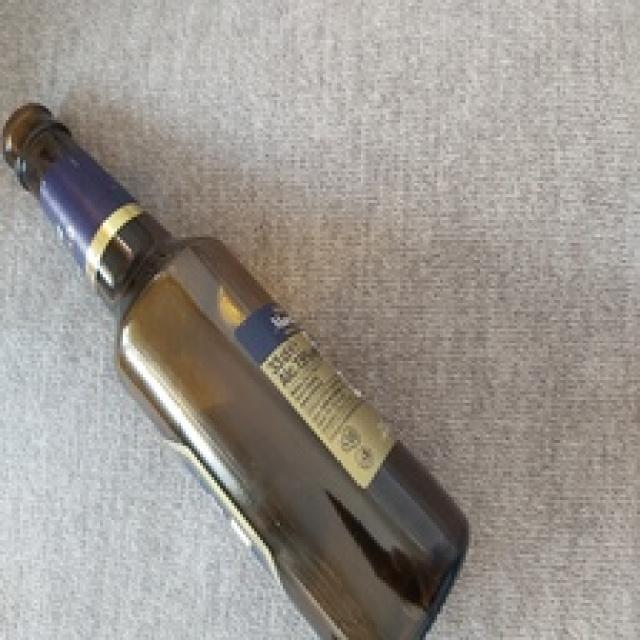glass-bottle: (2, 89, 501, 637)
